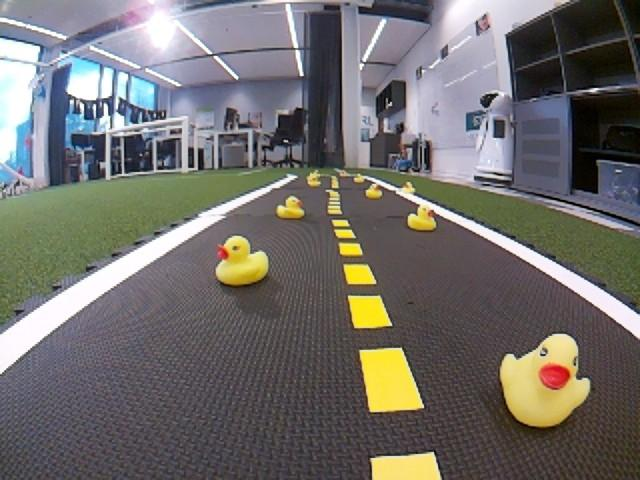Duckies: (500, 333, 592, 427), (215, 235, 270, 287), (405, 204, 437, 231), (278, 195, 306, 218), (364, 183, 381, 199), (400, 179, 415, 195), (308, 175, 321, 186), (353, 173, 364, 183)
